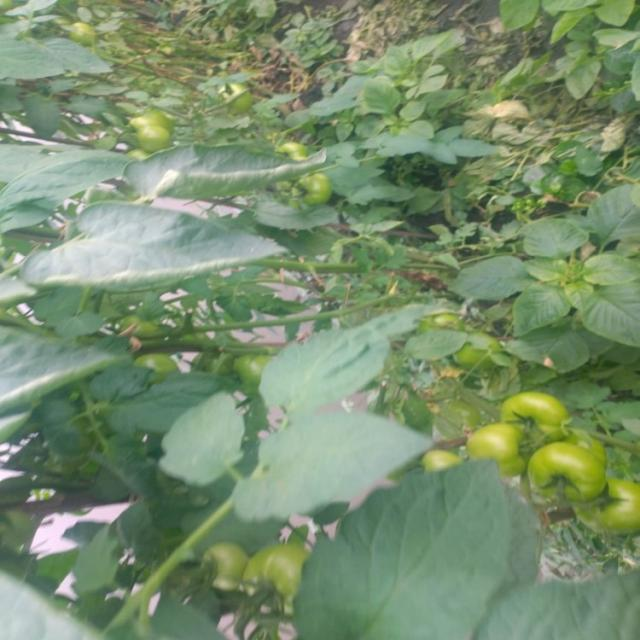tomato: (520, 437, 596, 509), (501, 389, 574, 459), (238, 553, 301, 624), (578, 468, 640, 536), (202, 545, 244, 595), (471, 428, 510, 471), (293, 169, 331, 207), (128, 116, 165, 149), (218, 82, 255, 107), (70, 13, 94, 44)
